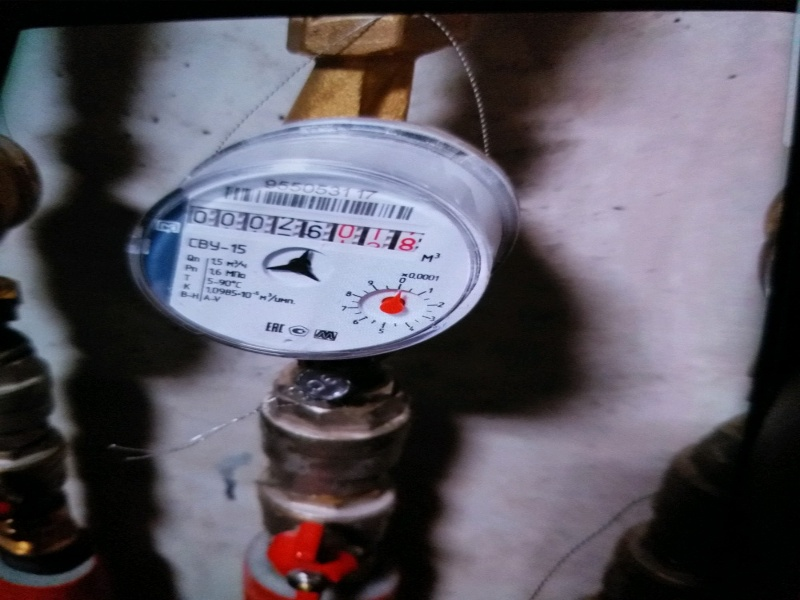dial: (186, 205, 417, 254)
